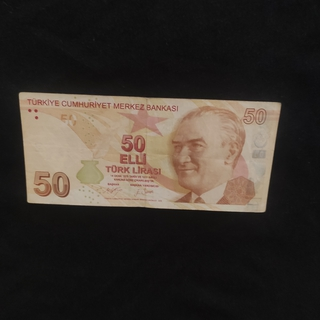50TLFront: (18, 92, 281, 213)
